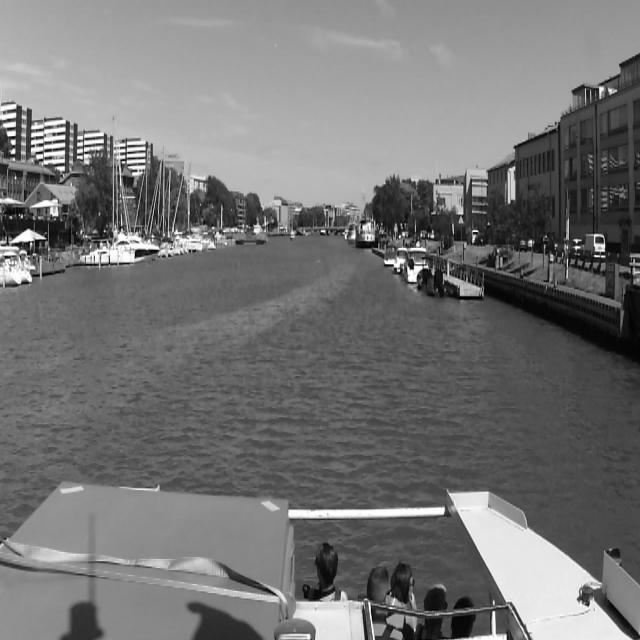ship: (78, 114, 134, 265), (425, 260, 455, 298), (224, 223, 268, 246), (355, 218, 376, 249), (417, 266, 438, 294), (403, 247, 417, 284), (393, 247, 404, 274), (290, 230, 296, 242)
